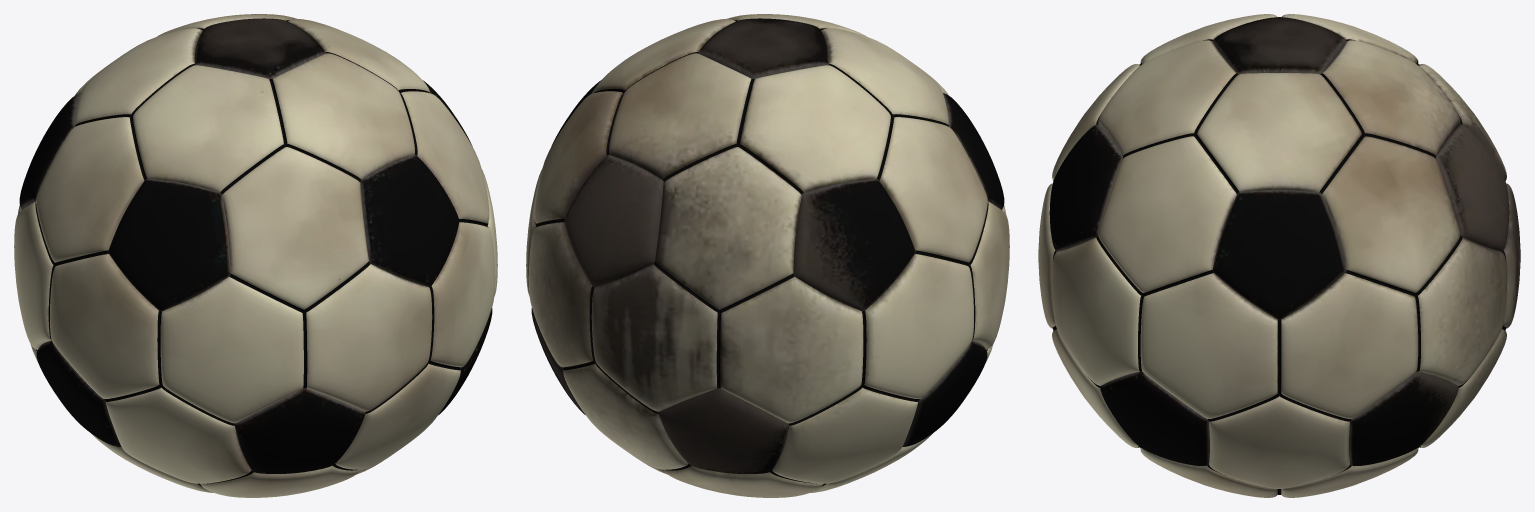
The model's file is soccer-ball.glb.
3 views of the same model, side by side, from view 1: azimuth 30°, elevation 25°; view 2: azimuth 150°, elevation 25°; view 3: azimuth 270°, elevation 25° (orthographic).
Visible parts, largest first — view 1: Object_5, Object_7, Object_6; view 2: Object_5, Object_7, Object_6; view 3: Object_5, Object_7, Object_6.
Boxes of the visible parts, bbox=[...] form: Object_5: bbox=[14, 14, 497, 497]; Object_7: bbox=[19, 18, 492, 473]; Object_6: bbox=[35, 20, 488, 486]; Object_5: bbox=[526, 14, 1009, 497]; Object_7: bbox=[531, 18, 1004, 473]; Object_6: bbox=[535, 20, 988, 486]; Object_5: bbox=[1038, 14, 1520, 497]; Object_7: bbox=[1049, 17, 1509, 494]; Object_6: bbox=[1052, 39, 1506, 494].
Size of the model in its own units: 0.4358 by 0.4395 by 0.4351.
Materials: 3 (2 with a texture image).
